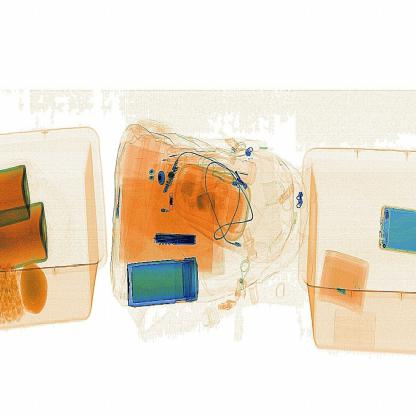scissors: (149, 226, 202, 250)
